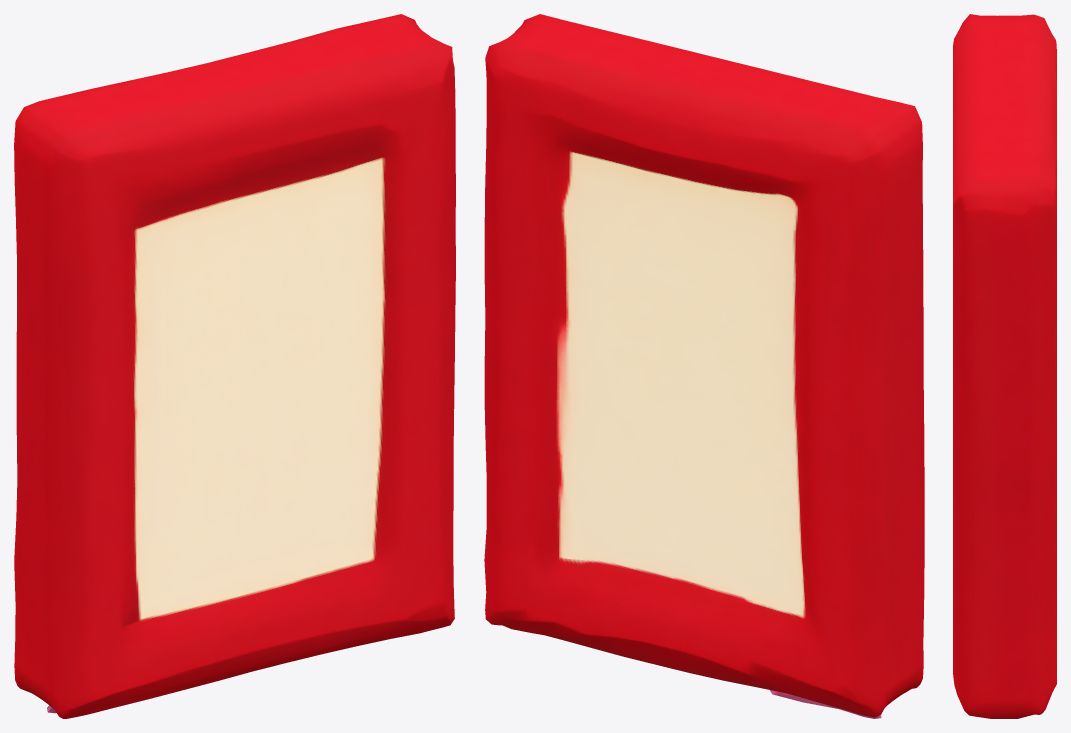
Rendered from 10-frame-small.fbx.
The picture shows the model from 3 angles, left to right: view 1: azimuth 30°, elevation 25°; view 2: azimuth 150°, elevation 25°; view 3: azimuth 270°, elevation 25°; orthographic projection. The views are drawn at different scales.
Parts seen in each view (by area): view 1: model; view 2: model; view 3: model.
Part boxes in pixels (x1,y1,x2,y2): model: (14, 14, 455, 718); model: (484, 14, 924, 718); model: (953, 14, 1056, 718).
Bounding box in the file's own units: 132 × 189 × 32.58.
